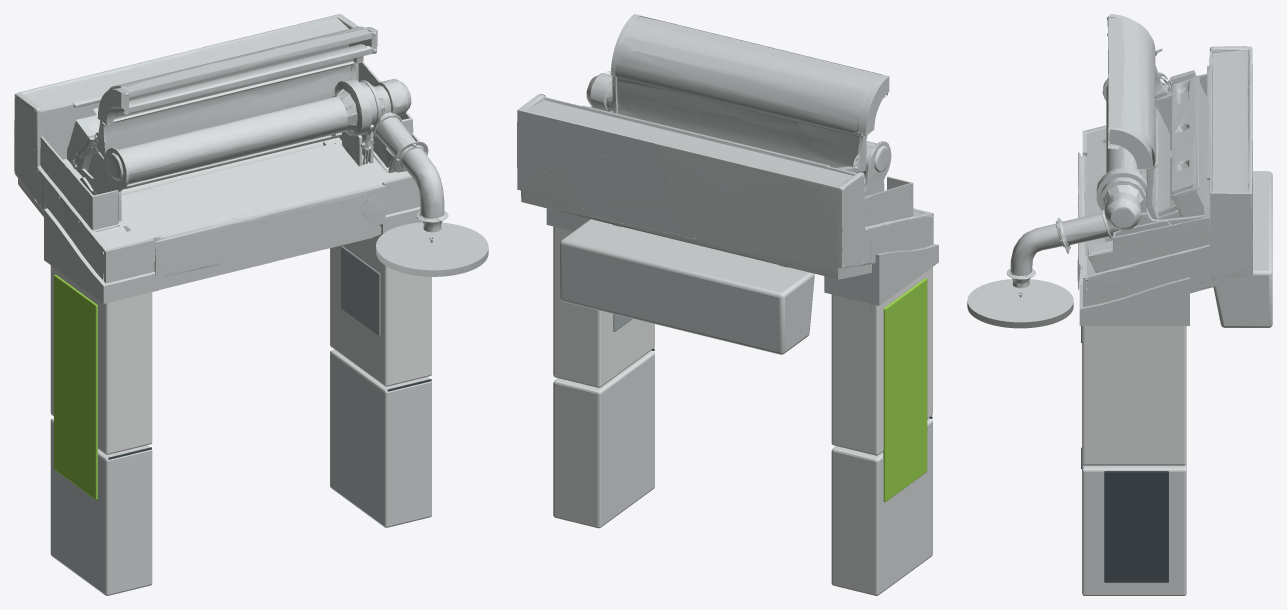
The model's file is JWF0019A-第12轮清除旧灯疙瘩并校正圆盘.glb.
The picture shows the model from 3 angles, left to right: view 1: azimuth 30°, elevation 25°; view 2: azimuth 150°, elevation 25°; view 3: azimuth 270°, elevation 25°; orthographic projection. The views are drawn at different scales.
Visible parts, largest first — view 1: 第10轮_母版保形上部外观_锁定, 右支腿_下柜体, 左支腿_下柜体, 右支腿_上柜体, 左支腿_上柜体, 左支腿_外侧绿色饰板, 第10轮_出口圆盘_连续低模, 右立柱_内侧电柜门, 第11轮_精灵眼前缘横向圆管, 第10轮_顶部左侧排风弯头_连续低模; view 2: 第10轮_母版保形上部外观_锁定, 第11轮_精灵眼悬挂直角梯形罩壳, 右支腿_下柜体, 左支腿_下柜体, 左支腿_上柜体, 左支腿_外侧绿色饰板, 右支腿_上柜体, 第10轮_顶部左侧排风弯头_连续低模; view 3: 第10轮_母版保形上部外观_锁定, 右支腿_上柜体, 右支腿_外侧散热面板, 右支腿_下柜体, 第11轮_精灵眼悬挂直角梯形罩壳, 第10轮_出口圆盘_连续低模, 第10轮_顶部排风弯头_连续低模.
Part boxes in pixels (x1=…): 第10轮_母版保形上部外观_锁定: x1=14, y1=14, x2=448, y2=303; 右支腿_下柜体: x1=330, y1=349, x2=431, y2=527; 左支腿_下柜体: x1=50, y1=418, x2=152, y2=595; 右支腿_上柜体: x1=330, y1=234, x2=431, y2=386; 左支腿_上柜体: x1=50, y1=265, x2=152, y2=454; 左支腿_外侧绿色饰板: x1=54, y1=274, x2=97, y2=499; 第10轮_出口圆盘_连续低模: x1=376, y1=222, x2=488, y2=276; 右立柱_内侧电柜门: x1=341, y1=246, x2=380, y2=336; 第11轮_精灵眼前缘横向圆管: x1=121, y1=141, x2=322, y2=194; 第10轮_顶部左侧排风弯头_连续低模: x1=97, y1=88, x2=128, y2=124; 第10轮_母版保形上部外观_锁定: x1=517, y1=14, x2=938, y2=311; 第11轮_精灵眼悬挂直角梯形罩壳: x1=560, y1=219, x2=814, y2=354; 右支腿_下柜体: x1=553, y1=351, x2=654, y2=528; 左支腿_下柜体: x1=831, y1=418, x2=932, y2=595; 左支腿_上柜体: x1=831, y1=267, x2=932, y2=455; 左支腿_外侧绿色饰板: x1=883, y1=278, x2=927, y2=501; 右支腿_上柜体: x1=553, y1=226, x2=654, y2=387; 第10轮_顶部左侧排风弯头_连续低模: x1=858, y1=74, x2=889, y2=135; 第10轮_母版保形上部外观_锁定: x1=1007, y1=16, x2=1252, y2=325; 右支腿_上柜体: x1=1082, y1=326, x2=1186, y2=465; 右支腿_外侧散热面板: x1=1104, y1=471, x2=1168, y2=582; 右支腿_下柜体: x1=1082, y1=464, x2=1186, y2=595; 第11轮_精灵眼悬挂直角梯形罩壳: x1=1213, y1=171, x2=1272, y2=327; 第10轮_出口圆盘_连续低模: x1=967, y1=279, x2=1073, y2=328; 第10轮_顶部排风弯头_连续低模: x1=1109, y1=126, x2=1153, y2=168.
Size of the model in its own units: 3.3 by 4.44 by 2.74.
